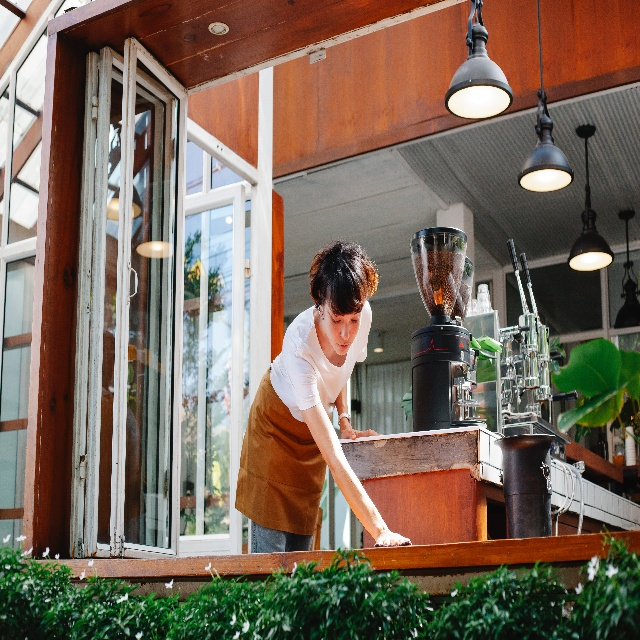Sin_guantes: (340, 427, 384, 440), (376, 528, 409, 545)
